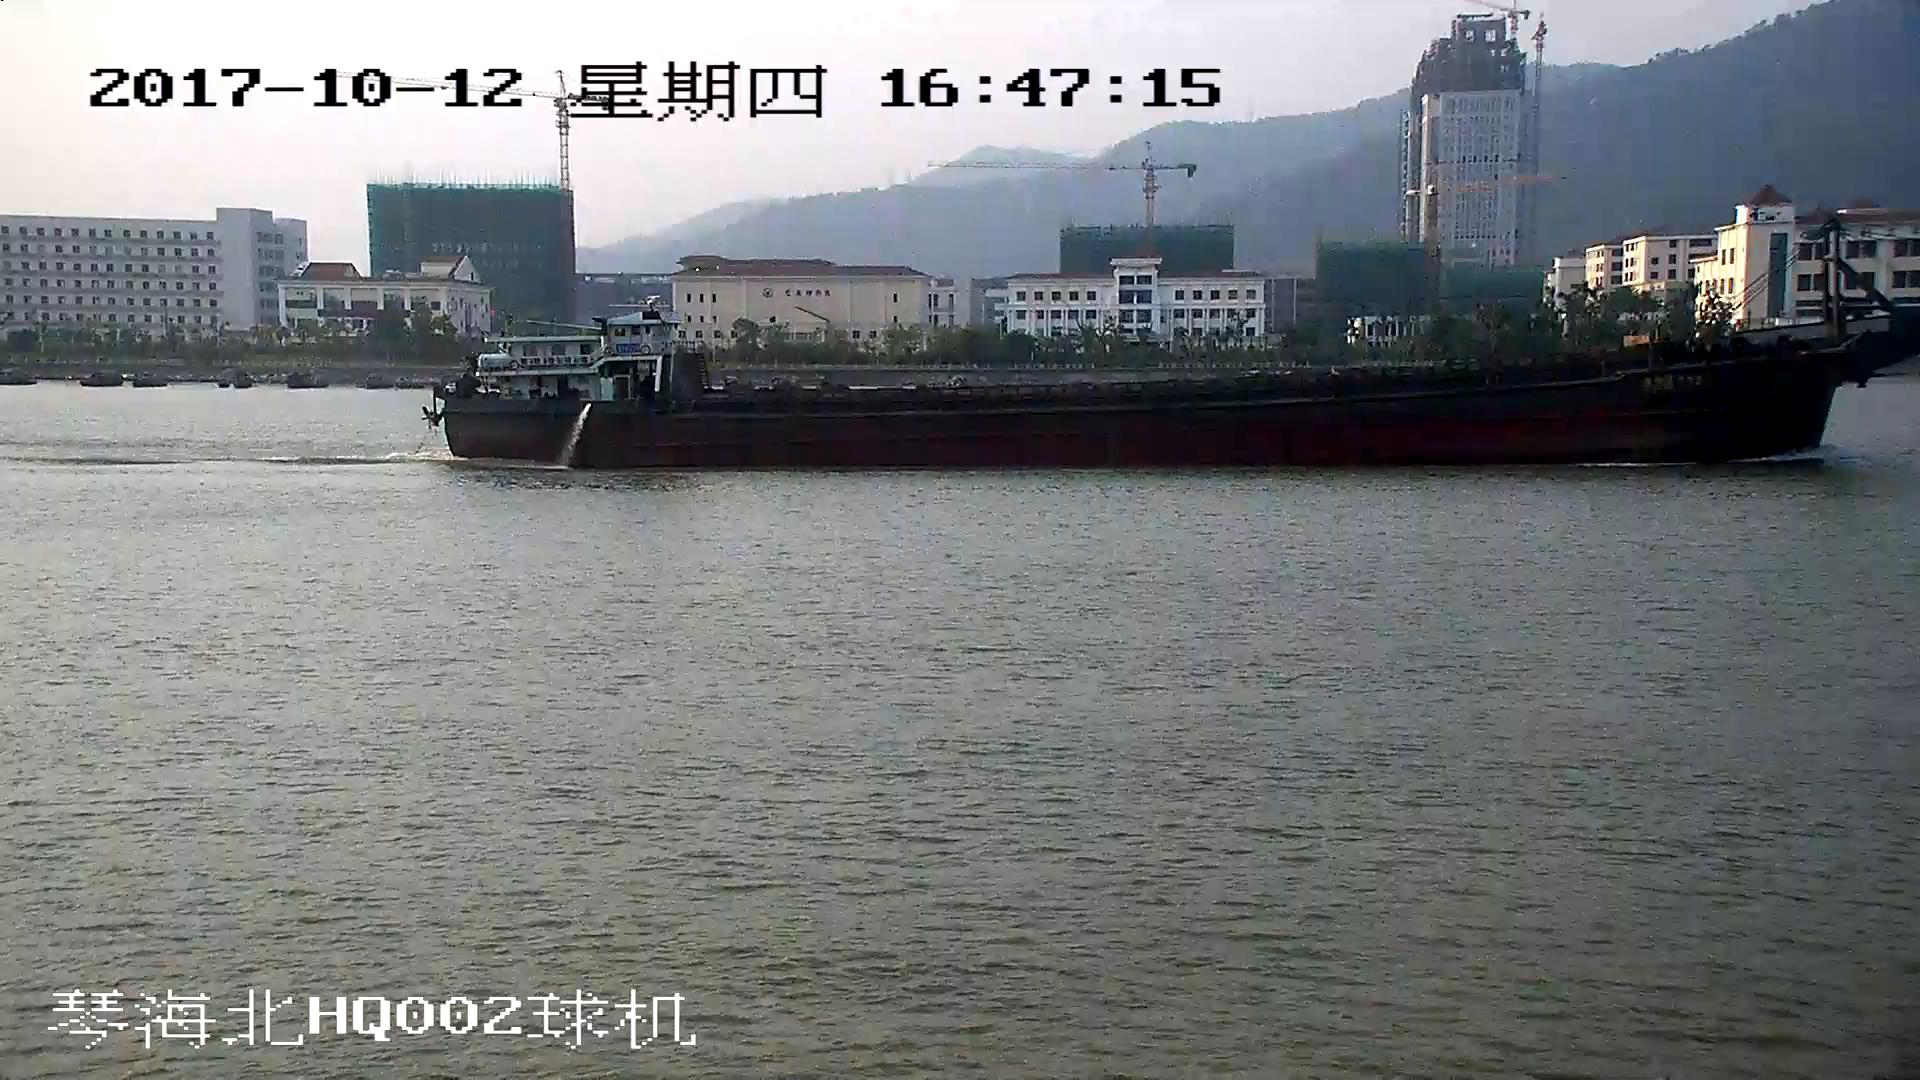bulk cargo carrier: (435, 220, 1920, 475)
